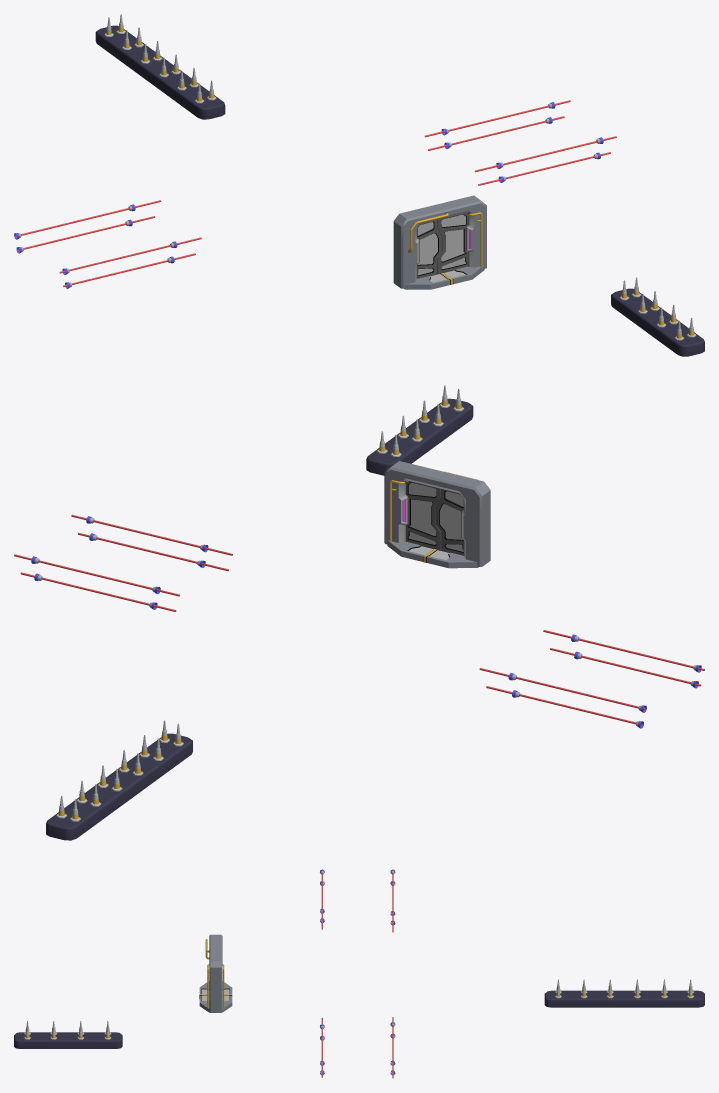
File: Level38_Objects.fbx
3 renders of one model, top to bottom at view 1: azimuth 30°, elevation 25°; view 2: azimuth 150°, elevation 25°; view 3: azimuth 270°, elevation 25°, orthographic. The views are drawn at different scales.
Parts seen in each view (by area): view 1: Base (×3), Right, Left, Base5; view 2: Base (×3), Right, Left, Base5; view 3: Base (×3), Base5.
Part boxes in pixels (<box>): Base (×3): <box>95,25,704,356</box>; Right: <box>437,213,468,274</box>; Left: <box>416,220,441,278</box>; Base5: <box>404,265,484,289</box>; Base (×3): <box>46,398,490,840</box>; Right: <box>406,481,441,550</box>; Left: <box>435,489,464,555</box>; Base5: <box>387,540,478,568</box>; Base (×3): <box>14,934,704,1048</box>; Base5: <box>199,981,232,1012</box>.
Size of the model in its own units: 353 by 45.52 by 518.
